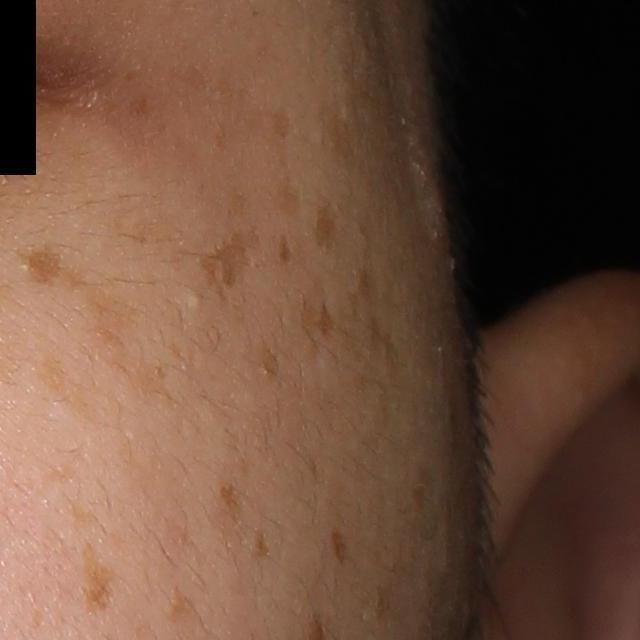comedo: (183, 289, 203, 312)
melasma: (78, 545, 119, 616), (10, 245, 71, 285), (215, 483, 244, 532)
